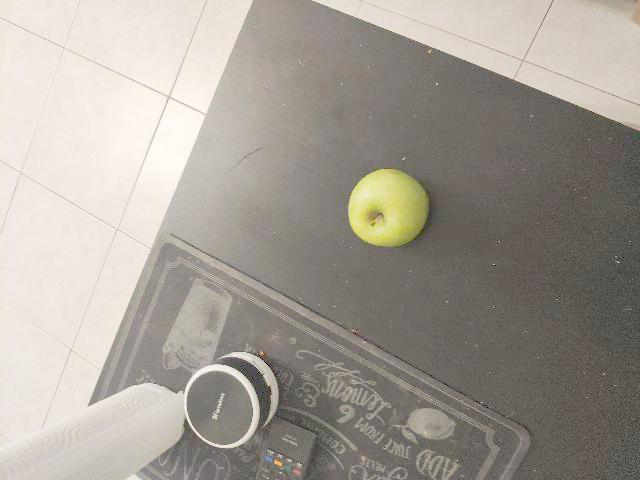apple: (337, 161, 454, 250)
